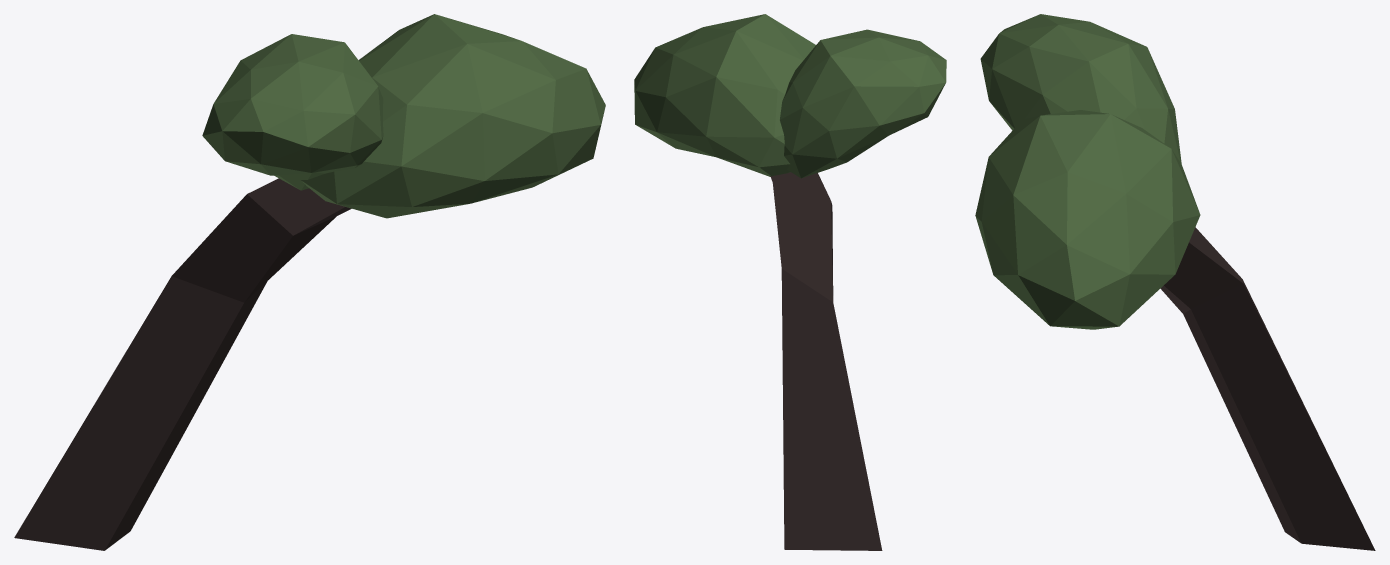
Rendered from galho-arvore.glb.
3 renders of one model, left to right at view 1: azimuth 30°, elevation 25°; view 2: azimuth 150°, elevation 25°; view 3: azimuth 270°, elevation 25°, orthographic. The views are drawn at different scales.
Visible parts, largest first — view 1: Galho; view 2: Galho; view 3: Galho.
Boxes of the visible parts, x1=… form: Galho: x1=14, y1=14, x2=605, y2=550; Galho: x1=634, y1=14, x2=946, y2=550; Galho: x1=975, y1=14, x2=1375, y2=550.
Bounding box in the file's own units: 1.18 × 1.35 × 0.9006.
